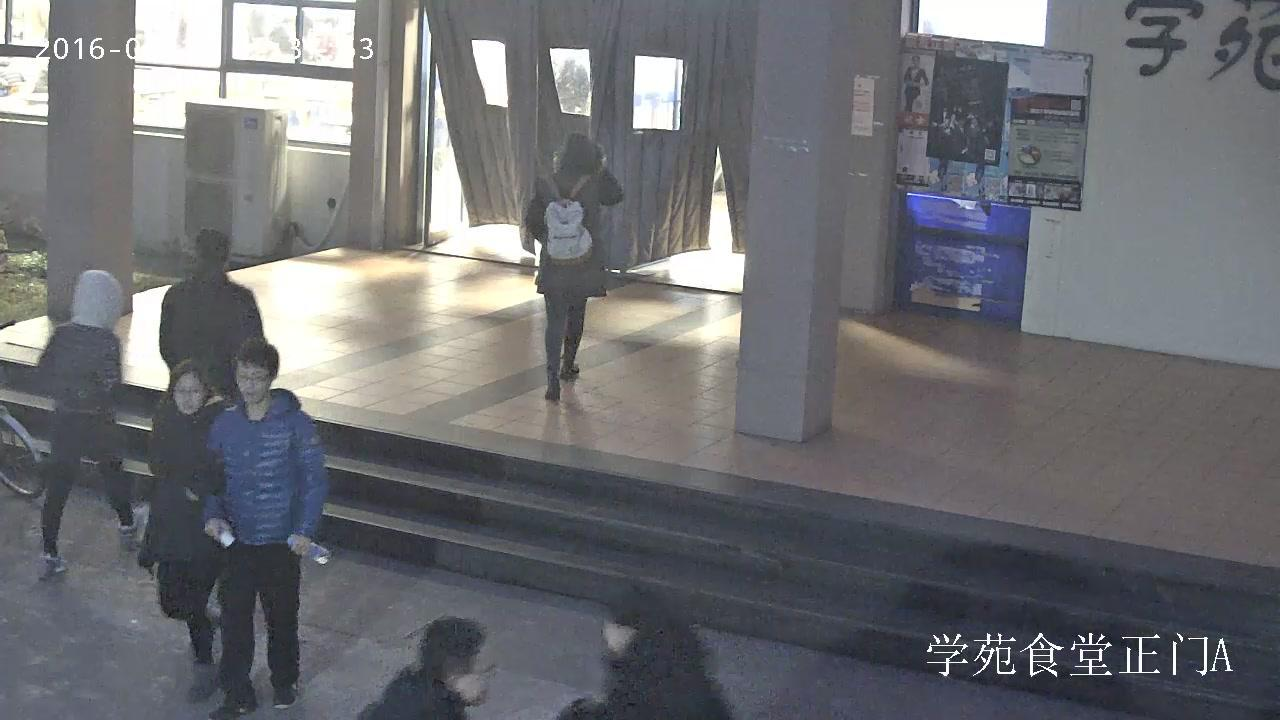person: (202, 339, 334, 720), (34, 267, 147, 581), (136, 360, 223, 706), (521, 132, 623, 403), (558, 591, 729, 720), (157, 228, 263, 398), (353, 615, 502, 720), (903, 55, 929, 112)
